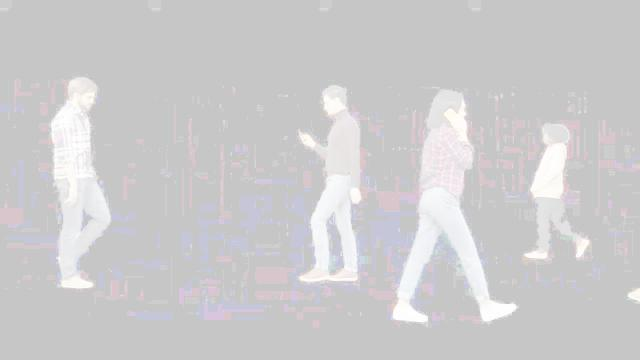berjalan: (385, 85, 521, 336), (301, 83, 373, 290), (49, 72, 113, 296), (520, 122, 596, 270)
